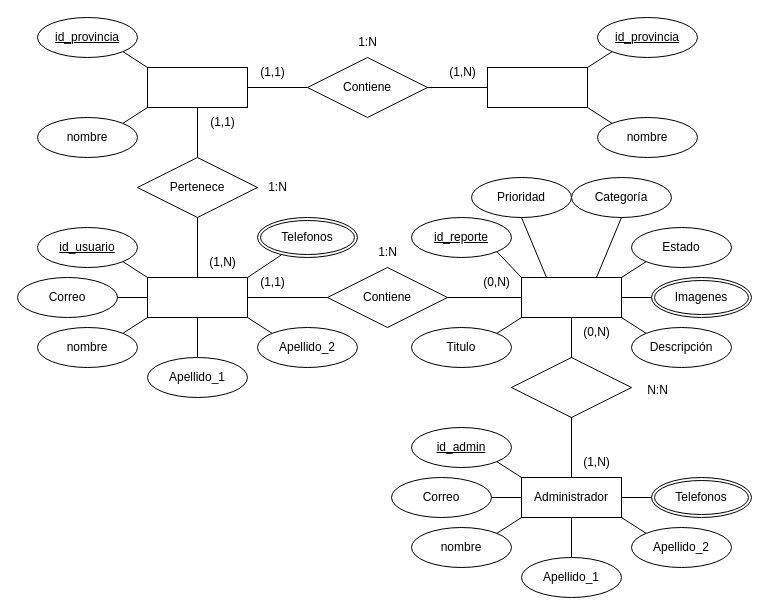
Some shapes in this 769 by 615 pixel diagram are drawn without their labels. Here are the shapes that lost their labels. From the top down, the centre of each, then its label:
At point 197,87: "Provincia".
At point 537,87: "Canton".
At point 197,297: "Usuario".
At point 571,297: "Reporte".
At point 571,387: "Verifica".
